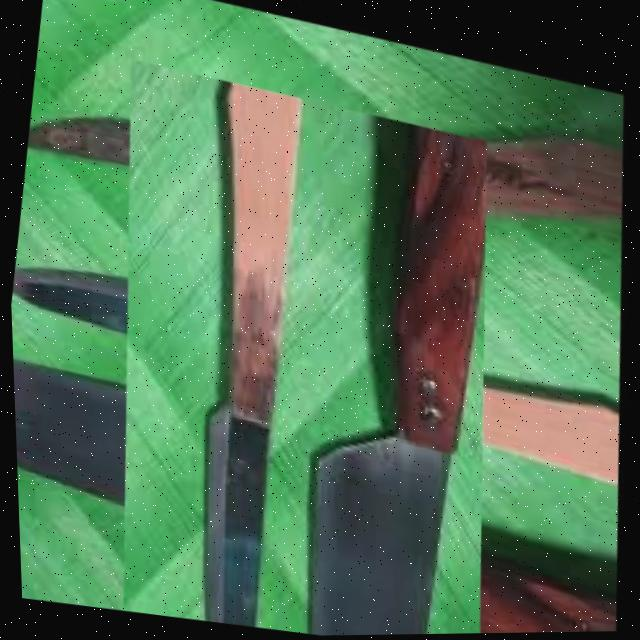knife: (270, 114, 511, 637), (140, 79, 319, 628)
